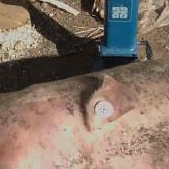text: (85, 93, 122, 130)
